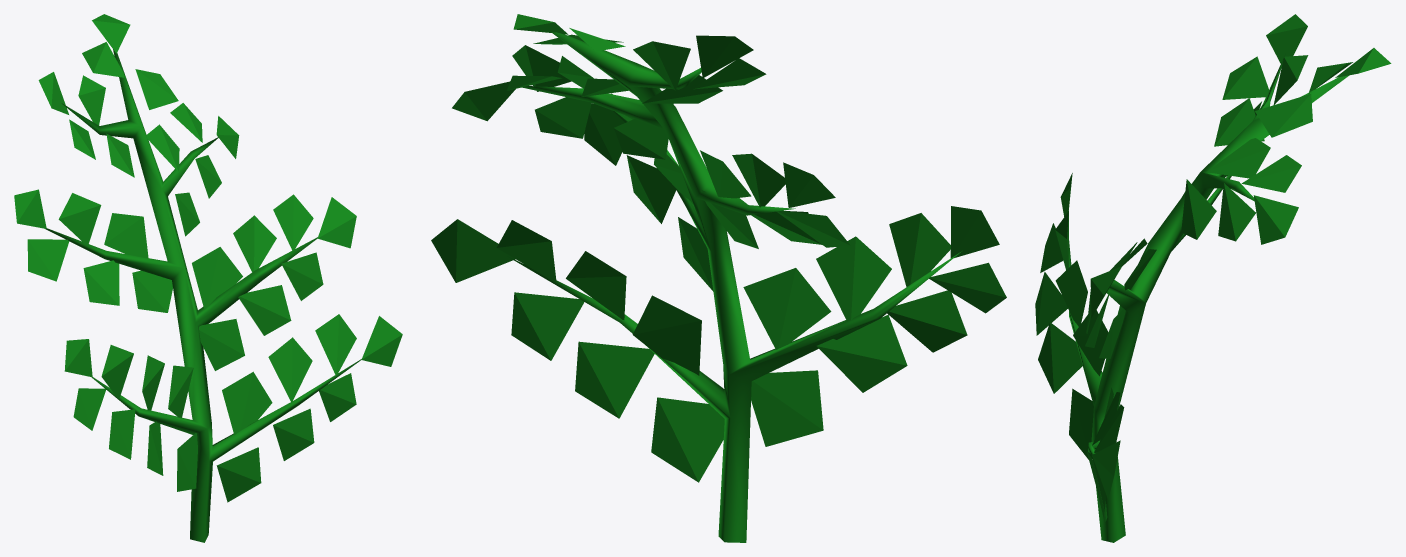
Rendered from plant2.fbx.
3 renders of one model, left to right at view 1: azimuth 30°, elevation 25°; view 2: azimuth 150°, elevation 25°; view 3: azimuth 270°, elevation 25°, orthographic. The views are drawn at different scales.
Visible parts, largest first — view 1: Cube; view 2: Cube; view 3: Cube.
Part boxes in pixels (x1=…): Cube: x1=14, y1=14, x2=402, y2=542; Cube: x1=431, y1=14, x2=1006, y2=542; Cube: x1=1035, y1=14, x2=1391, y2=542.
Size of the model in its own units: 1.77 by 2.03 by 1.33.
